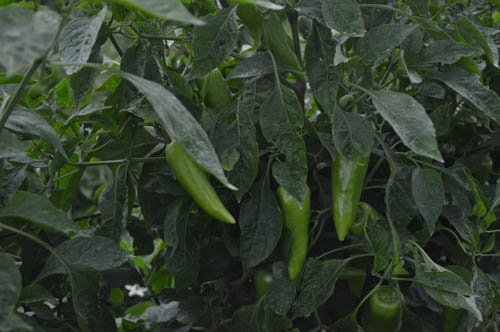ChiliPepper: (164, 141, 248, 239), (325, 146, 378, 242), (270, 171, 316, 280), (232, 1, 301, 70), (361, 282, 409, 332), (191, 63, 237, 110), (250, 266, 281, 303)
